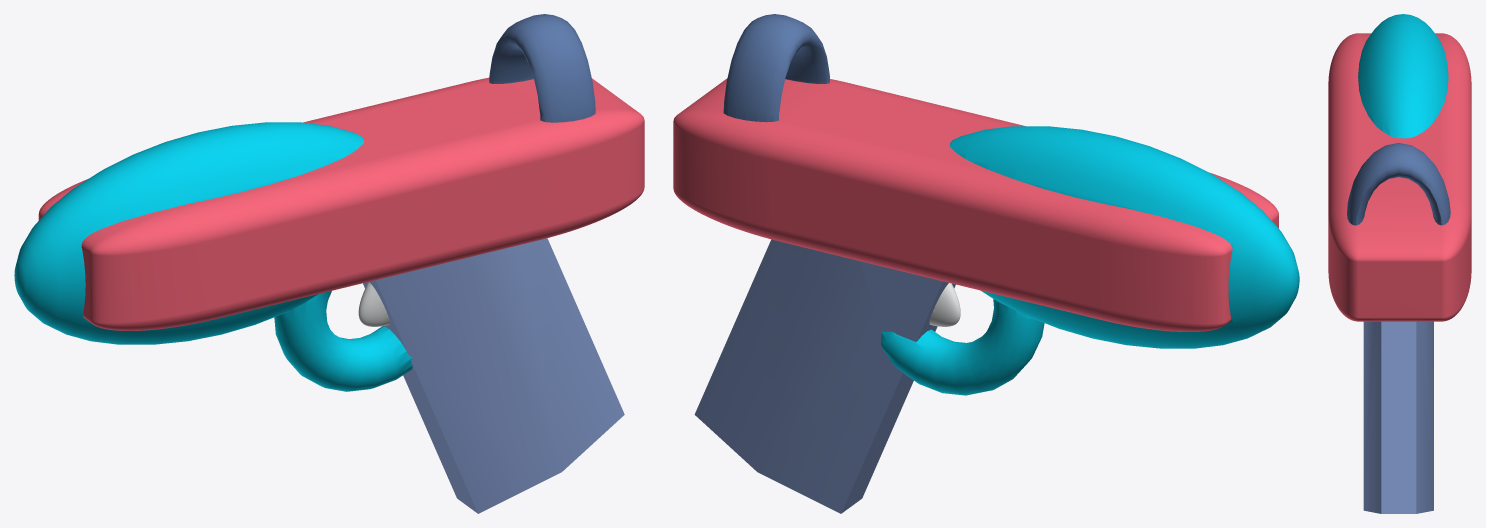
The model's file is futuristic_handgun.glb.
The picture shows the model from 3 angles, left to right: view 1: azimuth 30°, elevation 25°; view 2: azimuth 150°, elevation 25°; view 3: azimuth 270°, elevation 25°; orthographic projection. The views are drawn at different scales.
Parts seen in each view (by area): view 1: Object_3, Object_5, Object_6, Object_4, Object_2; view 2: Object_3, Object_5, Object_6, Object_4, Object_2; view 3: Object_3, Object_5, Object_6, Object_4.
Part boxes in pixels (x1,y1,x2,y2): Object_3: (38, 77, 644, 330); Object_5: (363, 238, 624, 513); Object_6: (14, 122, 412, 391); Object_4: (489, 14, 595, 122); Object_2: (358, 282, 389, 326); Object_3: (673, 78, 1278, 331); Object_5: (694, 239, 955, 513); Object_6: (881, 126, 1299, 395); Object_4: (723, 14, 829, 122); Object_2: (929, 283, 960, 326); Object_3: (1328, 33, 1471, 321); Object_5: (1363, 321, 1433, 513); Object_6: (1358, 14, 1448, 138); Object_4: (1347, 143, 1450, 225).
Bounding box in the file's own units: 65.34 × 49 × 16.27.
